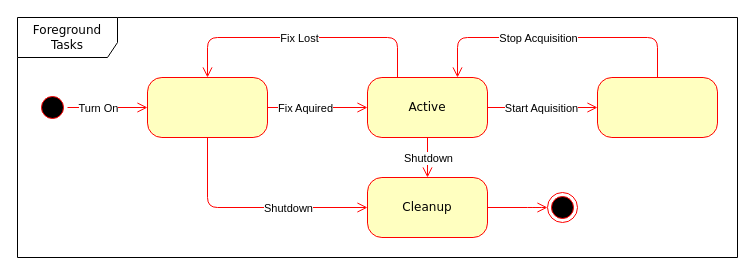
Some shapes in this 755 by 275 pixel diagram are drawn without their labels. The centre of each missing label's shape, as x and y in pixels:
"Acquiring Data" goes at (657,107).
"Acquiring GPS Fix" goes at (207,107).
